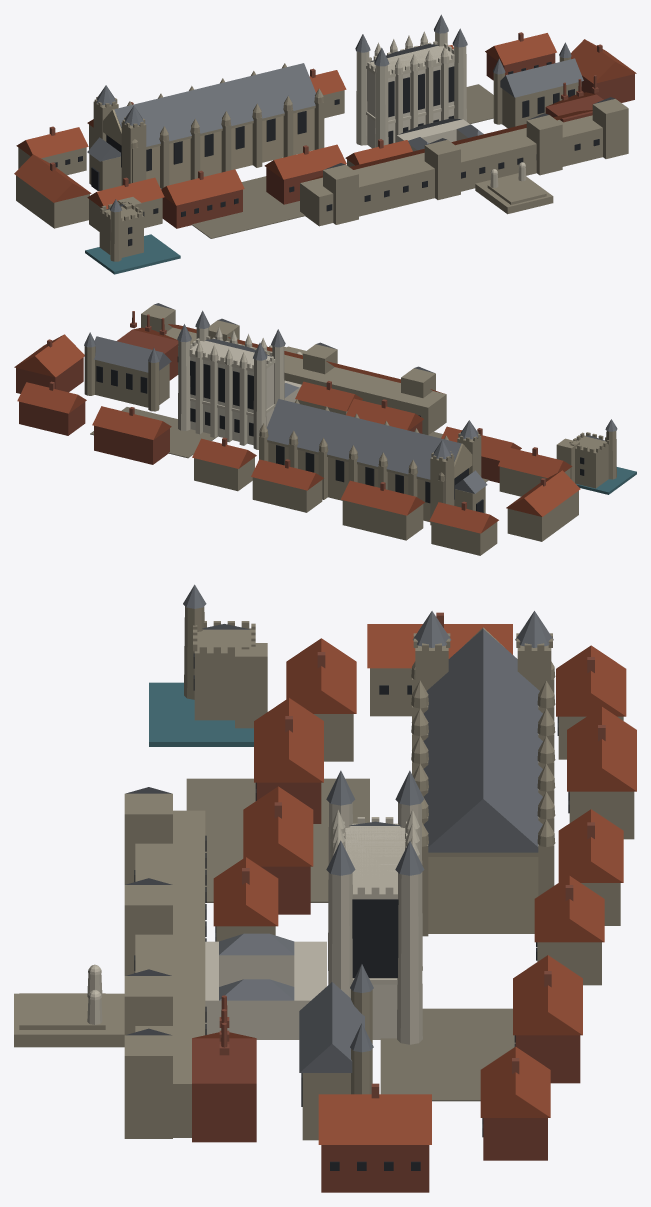
The model's file is old_palace_of_westminster.glb.
3 renders of one model, top to bottom at view 1: azimuth 30°, elevation 25°; view 2: azimuth 150°, elevation 25°; view 3: azimuth 270°, elevation 25°, orthographic. The views are drawn at different scales.
Parts seen in each view (by area): view 1: old_palace_of_westminster; view 2: old_palace_of_westminster; view 3: old_palace_of_westminster.
Part boxes in pixels (<box>): old_palace_of_westminster: <box>14,14,636,274</box>; old_palace_of_westminster: <box>14,303,636,555</box>; old_palace_of_westminster: <box>14,584,636,1192</box>.
Size of the model in its own units: 224 by 41.7 by 116.
